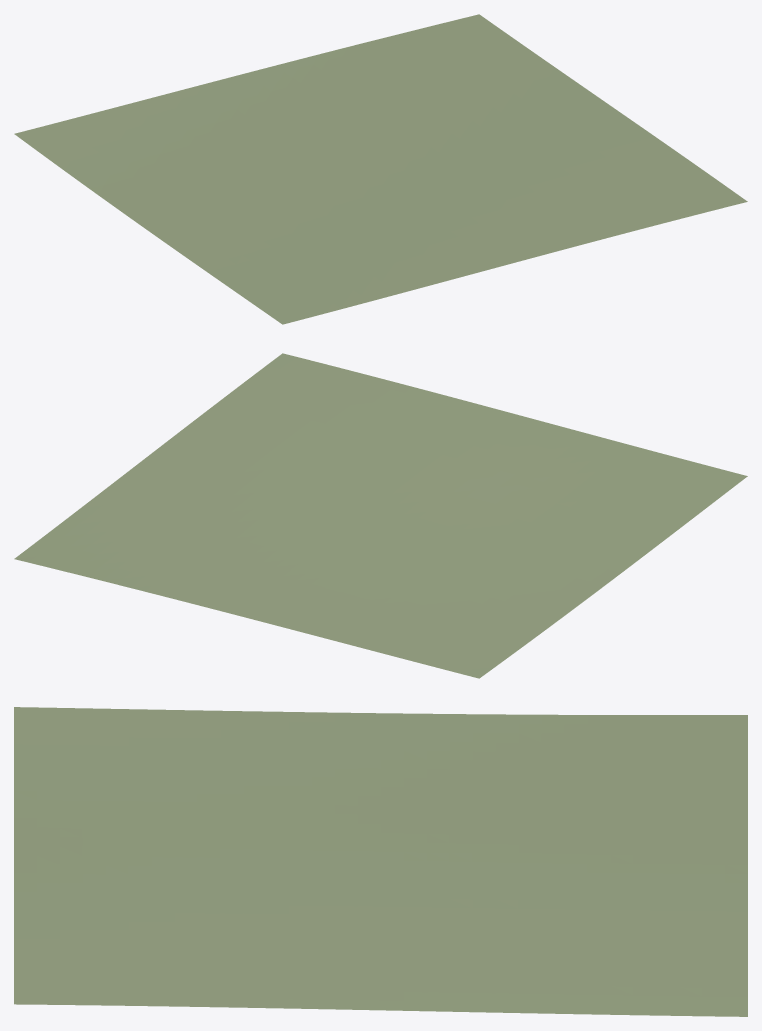
Rendered from expanse-30-13.glb.
3 views of the same model, one above another, from view 1: azimuth 30°, elevation 25°; view 2: azimuth 150°, elevation 25°; view 3: azimuth 270°, elevation 25° (orthographic). The views are drawn at different scales.
Visible parts, largest first — view 1: expanse-30-13; view 2: expanse-30-13; view 3: expanse-30-13.
Boxes of the visible parts, x1,y1,x2,y2 form: expanse-30-13: (14,14,747,324); expanse-30-13: (14,353,747,678); expanse-30-13: (14,707,747,1016).
Bounding box in the file's own units: 256 × 8.03 × 256.
